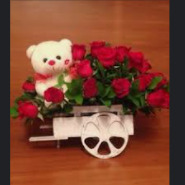RedRose: (77, 58, 97, 77), (129, 49, 147, 69)
